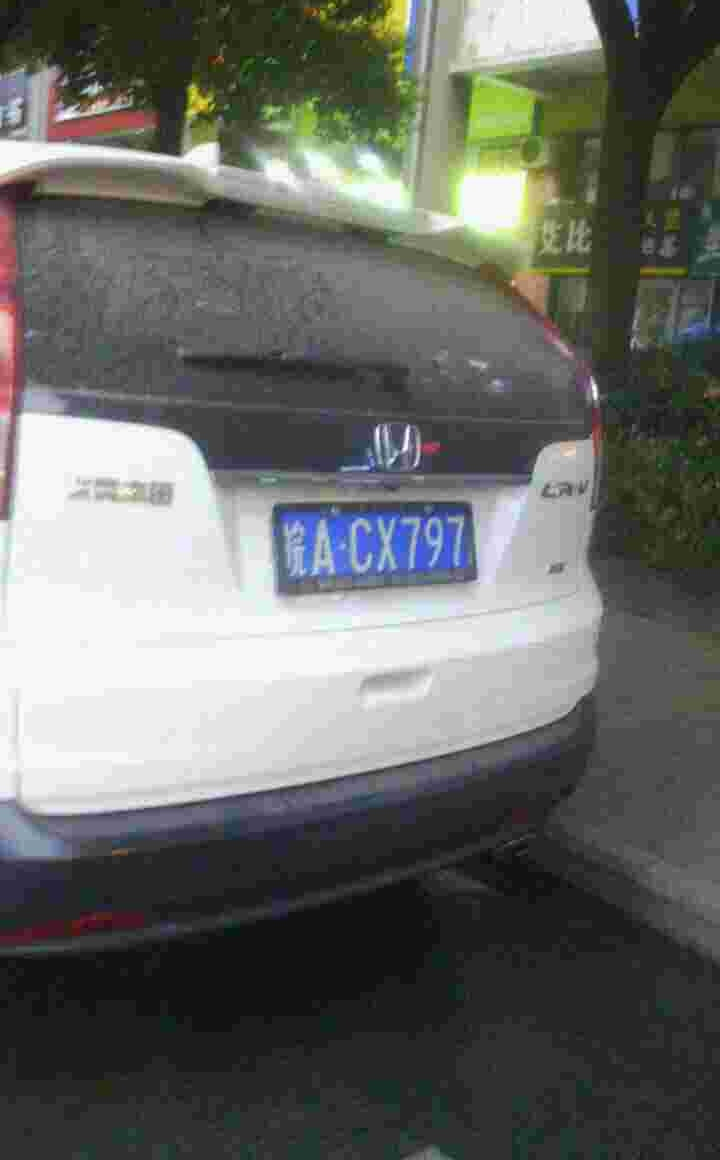license_plate: (284, 507, 472, 586)
